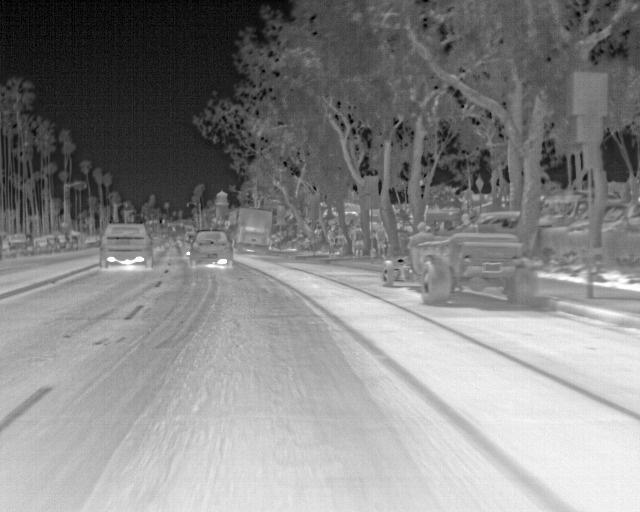bicycle: (97, 220, 152, 265), (187, 225, 236, 269), (3, 233, 34, 259)
empty: (406, 221, 435, 249)
